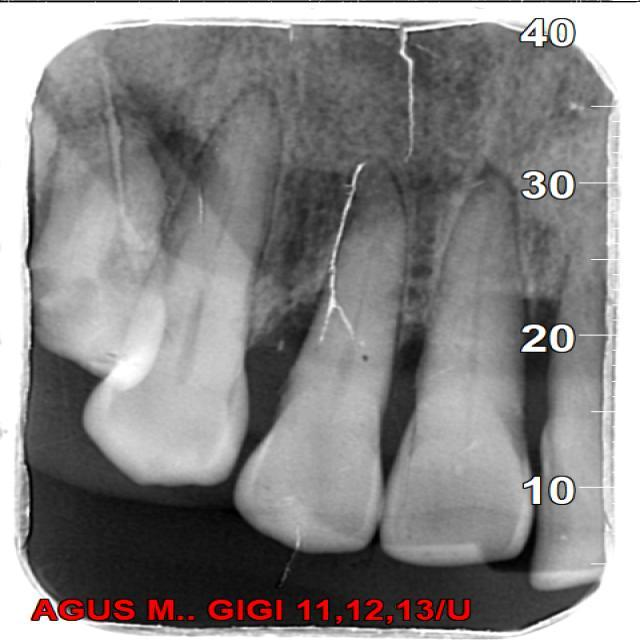individual-tooth-8tto: (85, 90, 268, 489), (239, 169, 408, 553), (380, 186, 528, 569)
